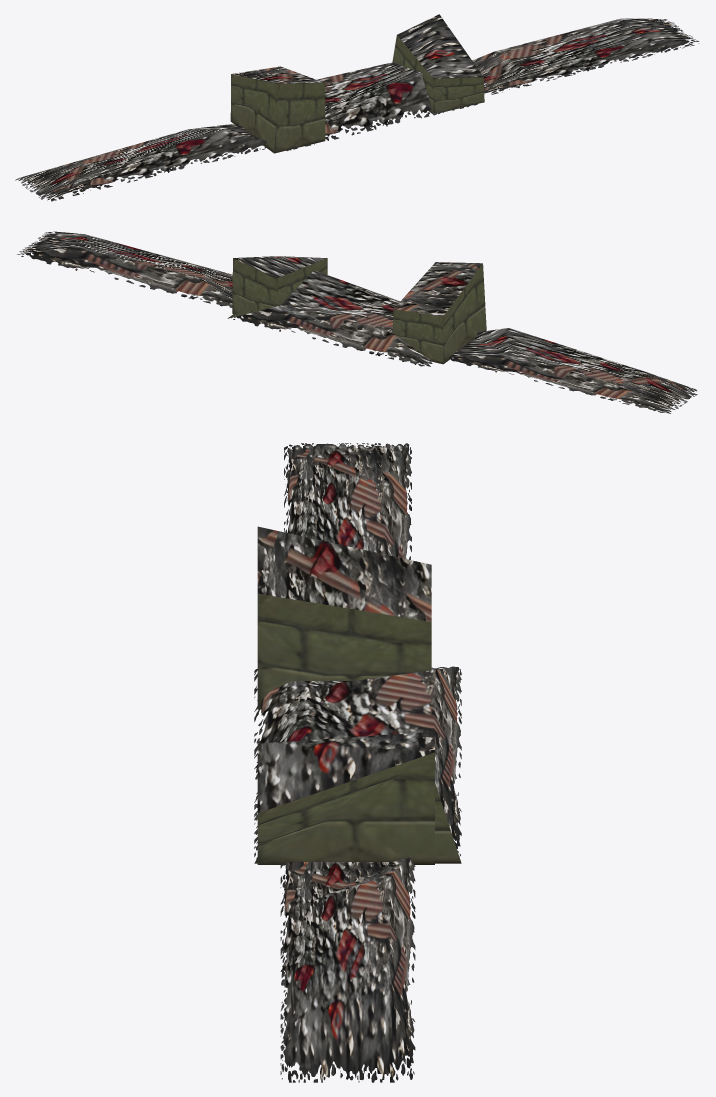
Rendered from l_palacegate_dam_hdtex.glb.
The picture shows the model from 3 angles, top to bottom: view 1: azimuth 30°, elevation 25°; view 2: azimuth 150°, elevation 25°; view 3: azimuth 270°, elevation 25°; orthographic projection. The views are drawn at different scales.
Parts seen in each view (by area): view 1: Palace_gateDAM; view 2: Palace_gateDAM; view 3: Palace_gateDAM.
Boxes of the visible parts, <box> form: Palace_gateDAM: <box>15,14,699,201</box>; Palace_gateDAM: <box>17,231,697,413</box>; Palace_gateDAM: <box>254,443,461,1082</box>.
Size of the model in its own units: 58.34 by 5.82 by 7.99.
Materials: 2 (2 with a texture image).
